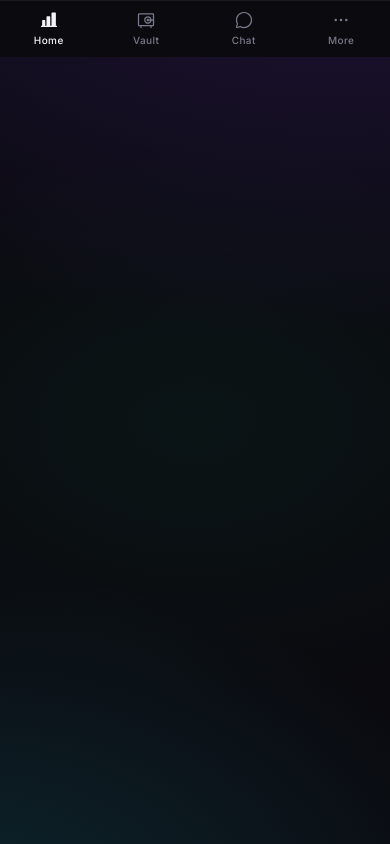
Test: BottomNav › non-admins do NOT see Herald/Squad in the More drawer
The image size is (390, 844).
Click the button "More" at (341,29), box [292,1,389,57]
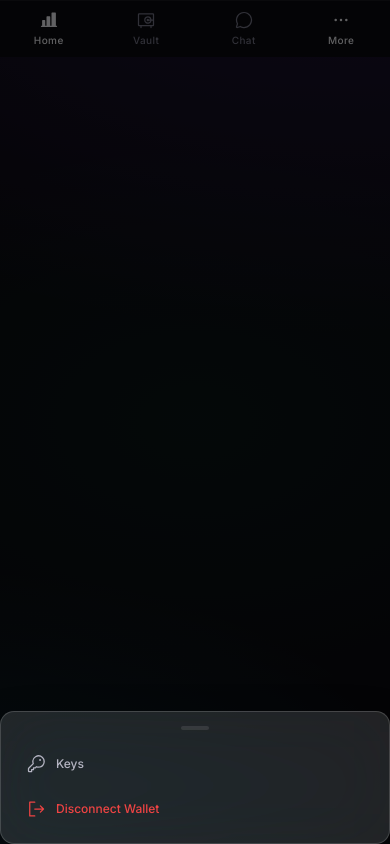
Expected: the button "Disconnect Wallet" is shown, [15,788,375,829]
